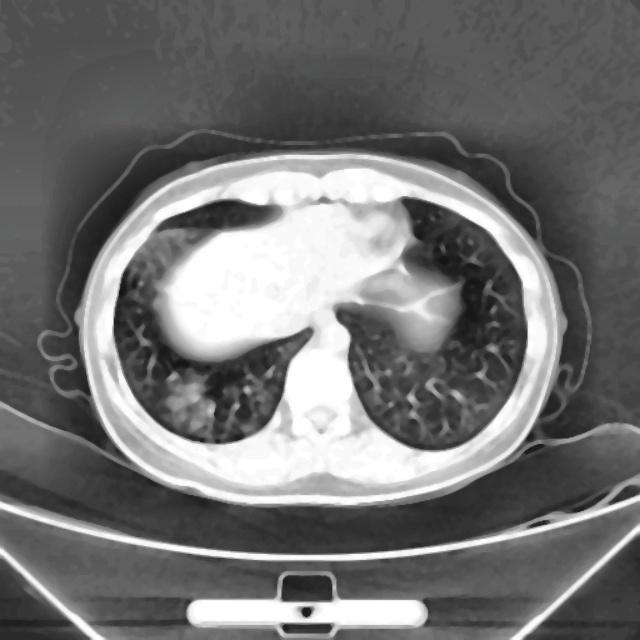covid: (74, 145, 569, 505)
